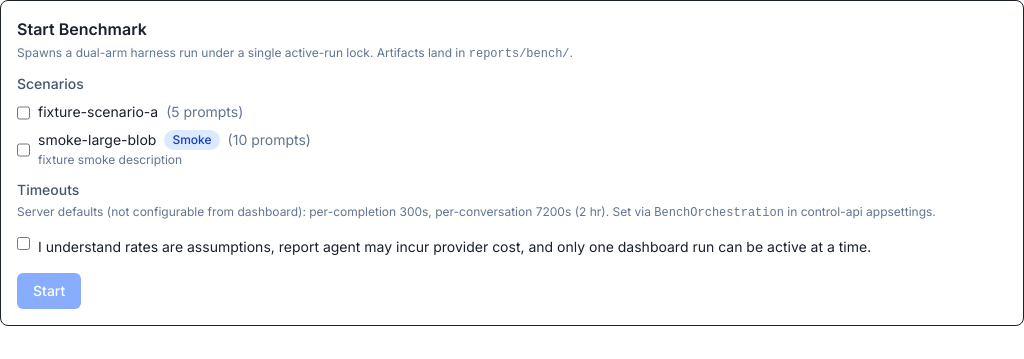
Test: StartBenchmarkPanel › shows smoke timeout defaults when only smoke scenarios are selected
This screenshot has width=1024, height=359.
Click the checkbox labelled "smoke-large-blob" at (24, 150), box [17,132,30,168]
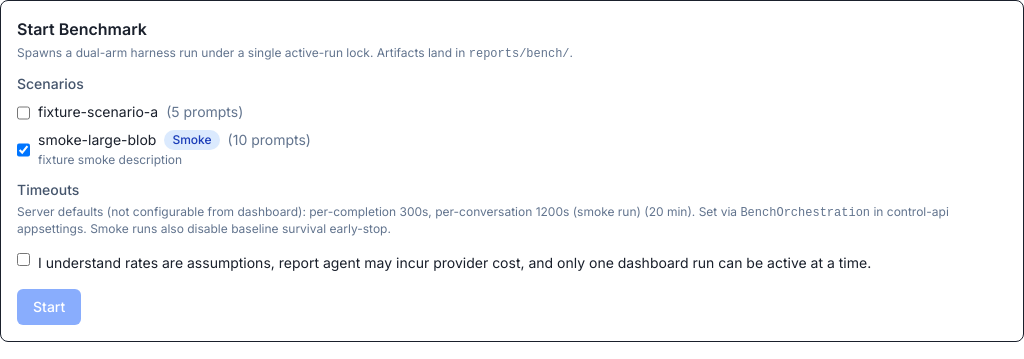
Expected: the element with test id "benchmark-timeout-defaults" shows "1200s", [17,180,1007,237]
Expected: the element with test id "benchmark-timeout-defaults" shows "20 min", [649,204,688,219]
Expected: the element with test id "benchmark-timeout-defaults" shows "smoke run", [569,204,641,219]
